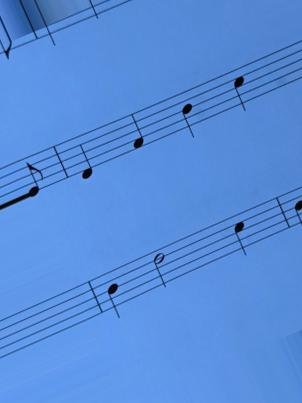B: (178, 93, 204, 141), (104, 269, 124, 328)
D: (74, 132, 97, 187)
F: (124, 108, 148, 159)
HC: (231, 66, 253, 118), (229, 214, 251, 263)
